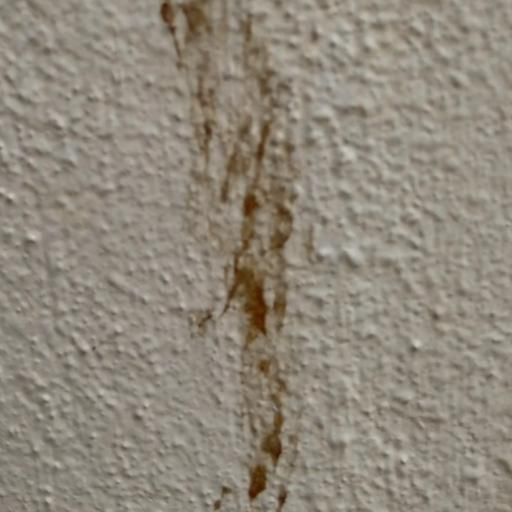stain: (147, 0, 325, 512)
